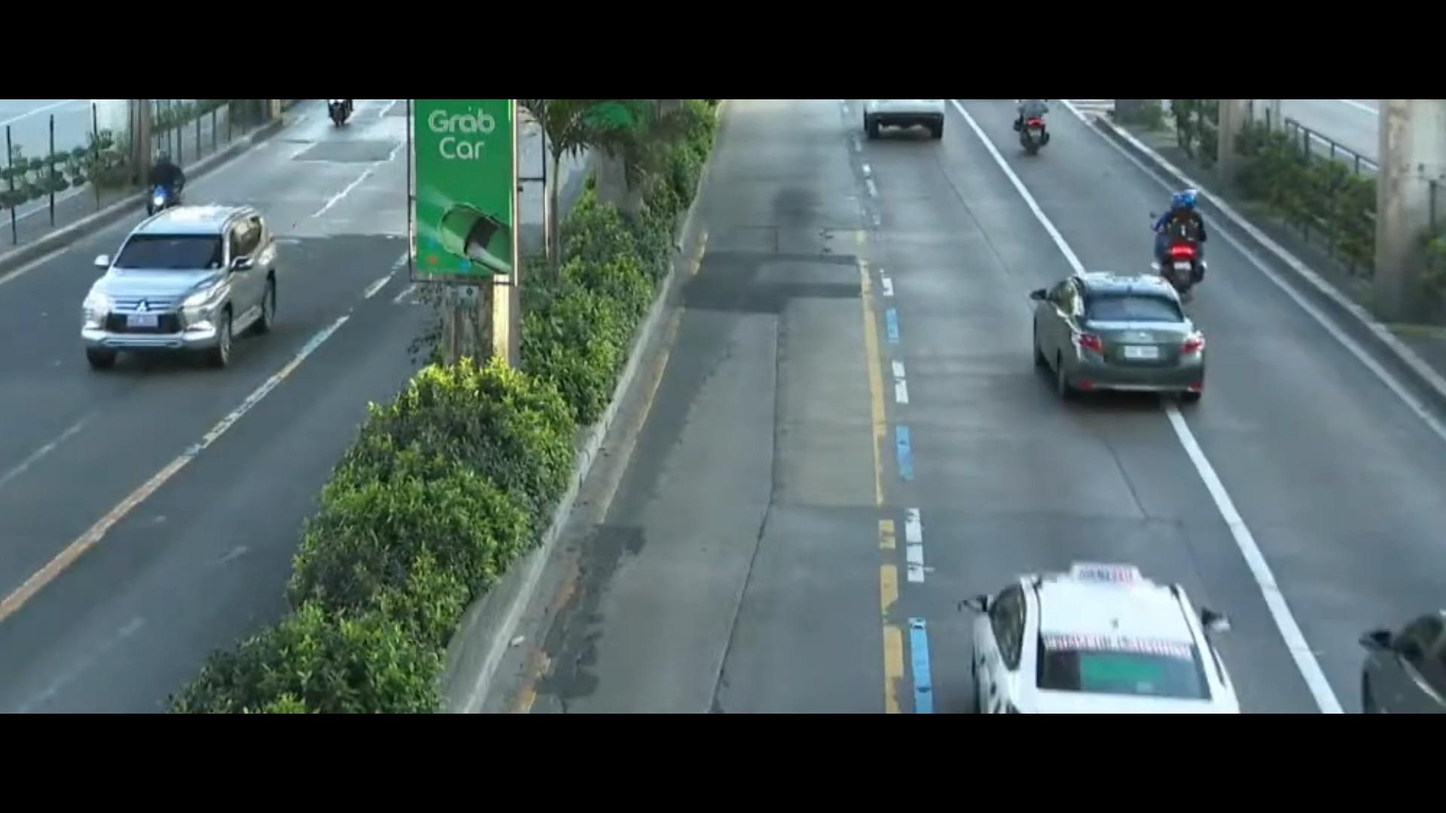Motorcycle: (1142, 174, 1226, 308), (127, 139, 201, 214), (1007, 97, 1070, 174)
SUV: (69, 201, 312, 382)
Sedan: (932, 540, 1250, 715), (1015, 239, 1218, 414)
